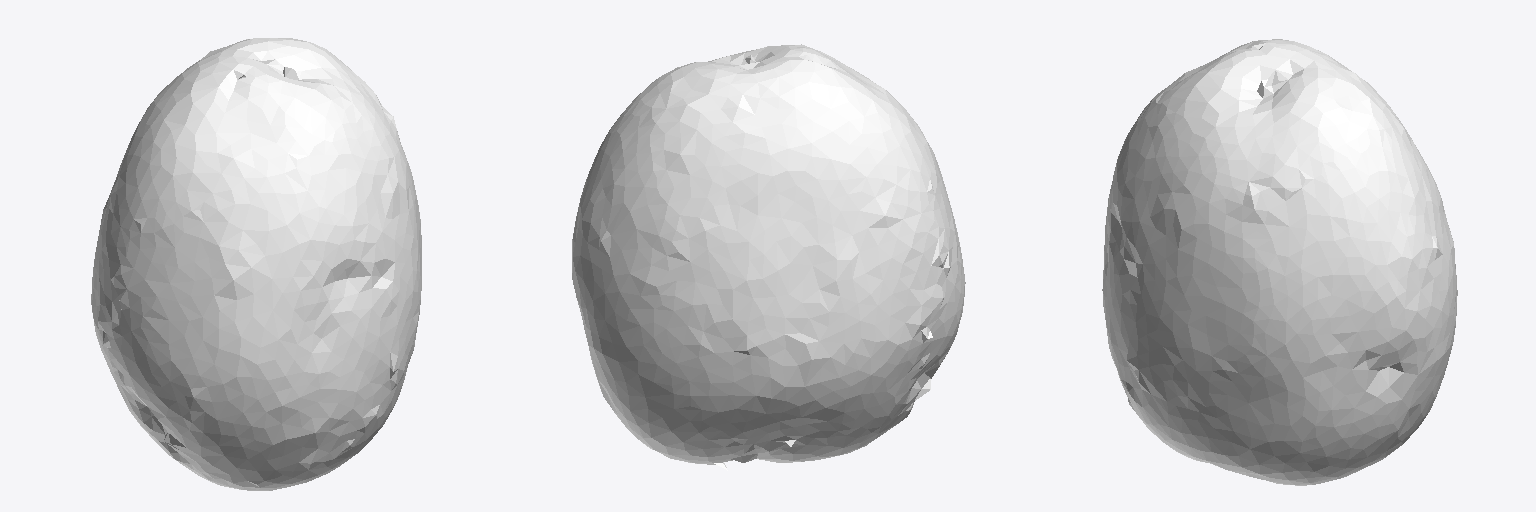
File: Potato_001.obj
The picture shows the model from 3 angles: view 1: azimuth 30°, elevation 25°; view 2: azimuth 150°, elevation 25°; view 3: azimuth 270°, elevation 25°; orthographic projection.
Visible parts, largest first — view 1: Potato_Pack_lowpoly_SF_potato3; view 2: Potato_Pack_lowpoly_SF_potato3; view 3: Potato_Pack_lowpoly_SF_potato3.
Part boxes in pixels (x1,y1,x2,y2): Potato_Pack_lowpoly_SF_potato3: (91,38,421,490); Potato_Pack_lowpoly_SF_potato3: (572,44,965,470); Potato_Pack_lowpoly_SF_potato3: (1102,39,1457,485).
Bounding box in the file's own units: 1.2 × 1.43 × 1.16.